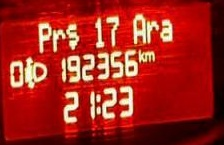0: (7, 59, 23, 85)
1: (90, 14, 105, 46), (83, 88, 95, 117), (59, 55, 67, 84)
2: (62, 88, 79, 125), (100, 86, 117, 118), (82, 52, 95, 82)
3: (117, 82, 134, 117), (95, 50, 109, 80)
5: (109, 49, 124, 76)
6: (123, 49, 137, 75)
7: (106, 14, 119, 47)
9: (67, 54, 80, 83)
X: (130, 11, 145, 45), (36, 20, 51, 54), (51, 23, 66, 54), (65, 21, 80, 50), (159, 16, 174, 43), (145, 15, 158, 46), (95, 91, 102, 115), (145, 48, 155, 63), (136, 48, 145, 63)
